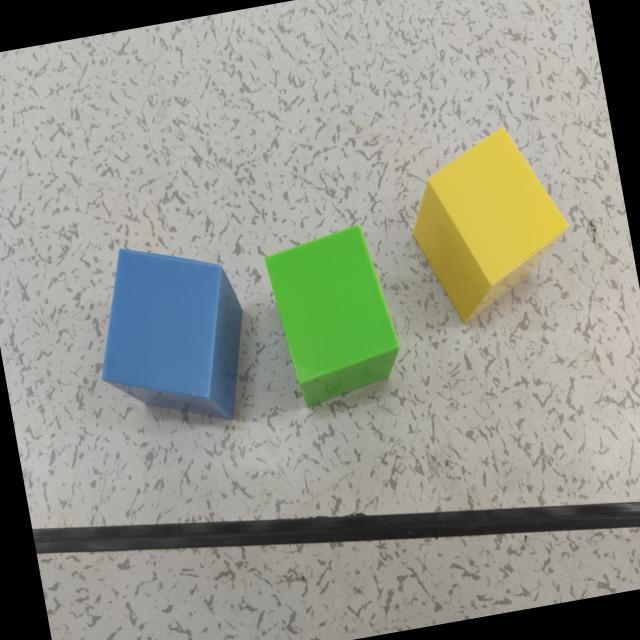blue: (101, 249, 243, 421)
green: (263, 225, 400, 407)
yellow: (412, 127, 570, 324)
